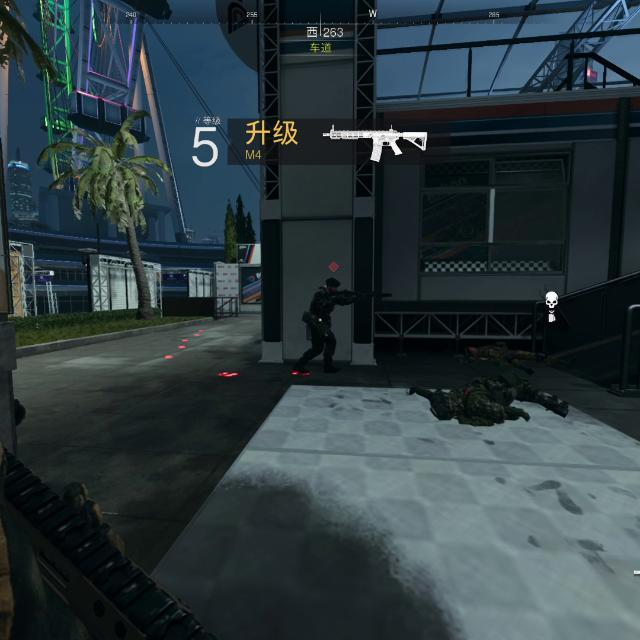MW2_body: (293, 262, 357, 372)
